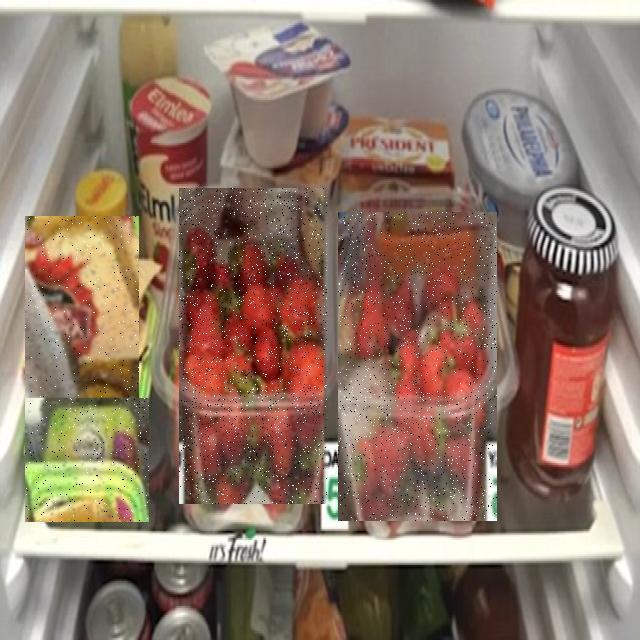cheese: (0, 201, 94, 603)
